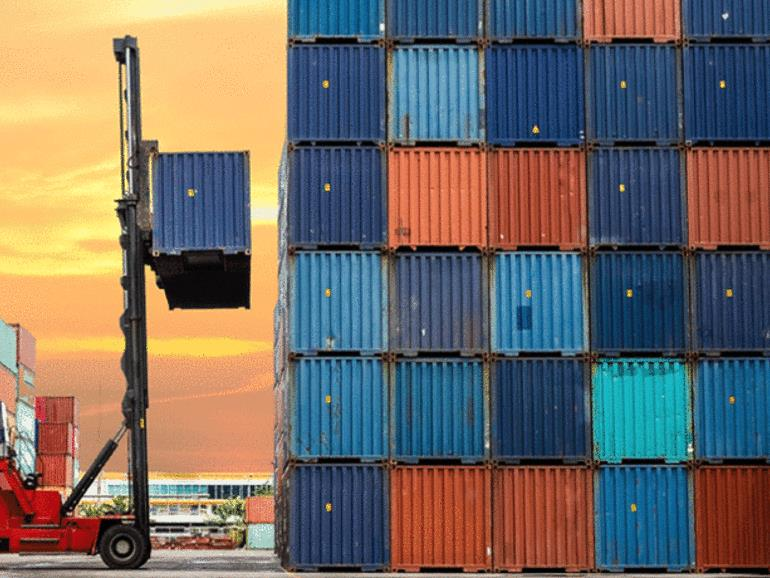container_no_door: (588, 140, 686, 251), (486, 142, 584, 253), (289, 463, 389, 571), (390, 463, 490, 571), (493, 462, 593, 570), (150, 150, 250, 257), (595, 358, 694, 466), (492, 357, 591, 465), (390, 358, 489, 466), (290, 357, 389, 465), (594, 462, 693, 570), (387, 252, 487, 358), (486, 253, 586, 359), (387, 145, 486, 251), (286, 145, 385, 251), (285, 251, 384, 357), (591, 251, 690, 357), (482, 42, 582, 143), (581, 41, 681, 142), (287, 44, 387, 144), (384, 43, 484, 143), (683, 43, 770, 147), (688, 145, 770, 251), (691, 461, 770, 571), (691, 249, 770, 358), (695, 358, 770, 463), (287, 1, 385, 42), (385, 1, 483, 42), (482, 1, 580, 42), (580, 1, 678, 42), (681, 1, 770, 41)
